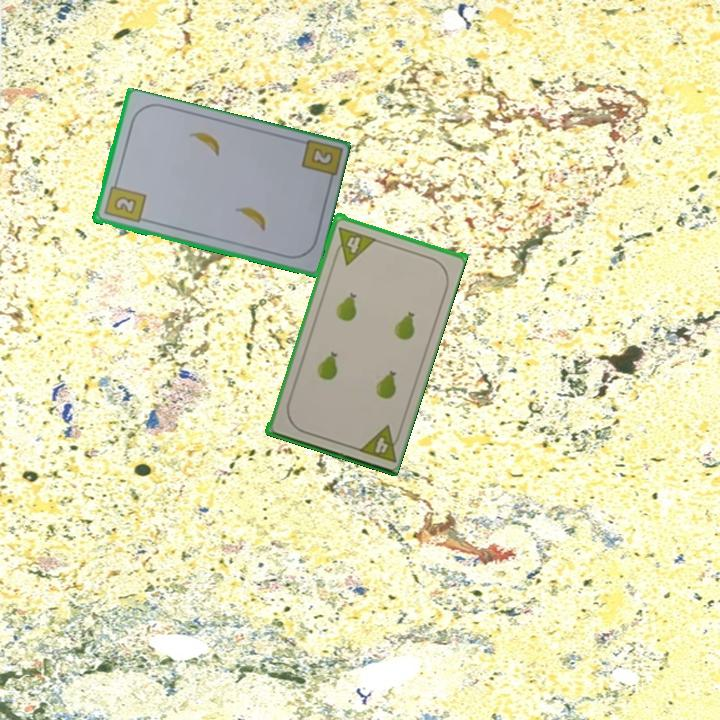2b: (100, 177, 148, 226), (310, 147, 334, 167)
4p: (353, 421, 405, 465), (329, 223, 378, 267)
